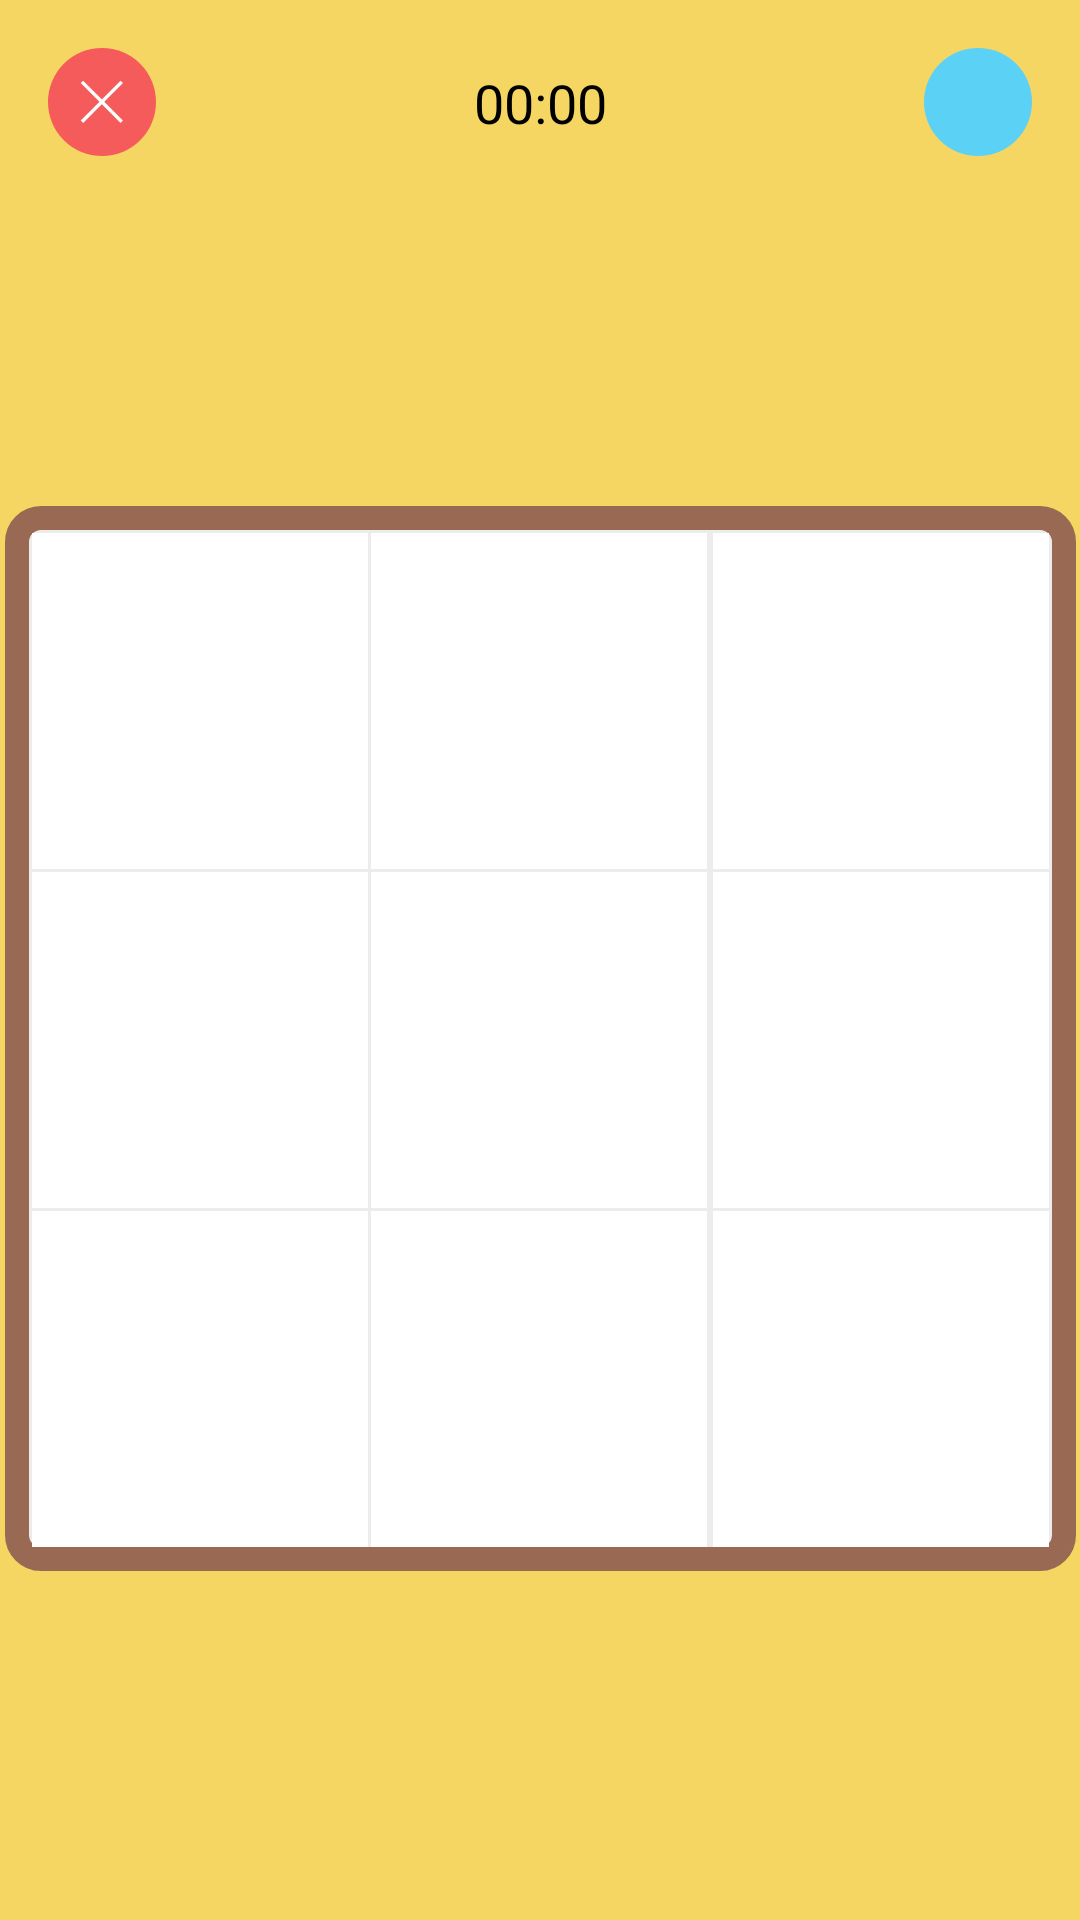

Where to tap for icons on this 1080 x 1920 app screen, as [x,y]:
cross: [102,102]
